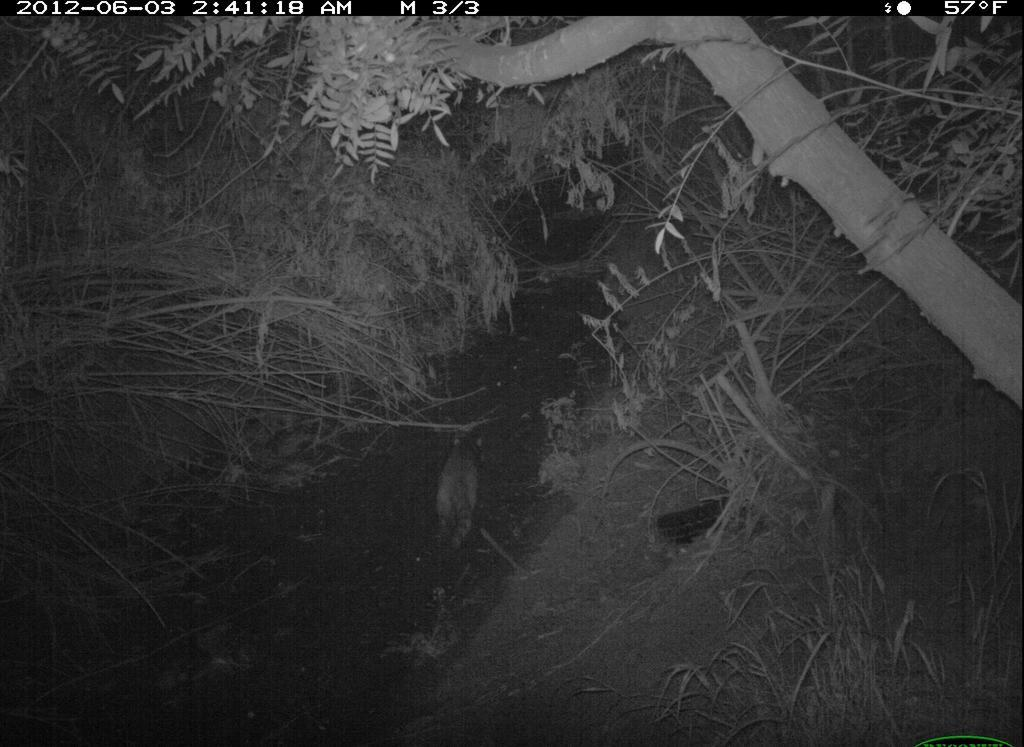raccoon: (419, 422, 516, 551)
